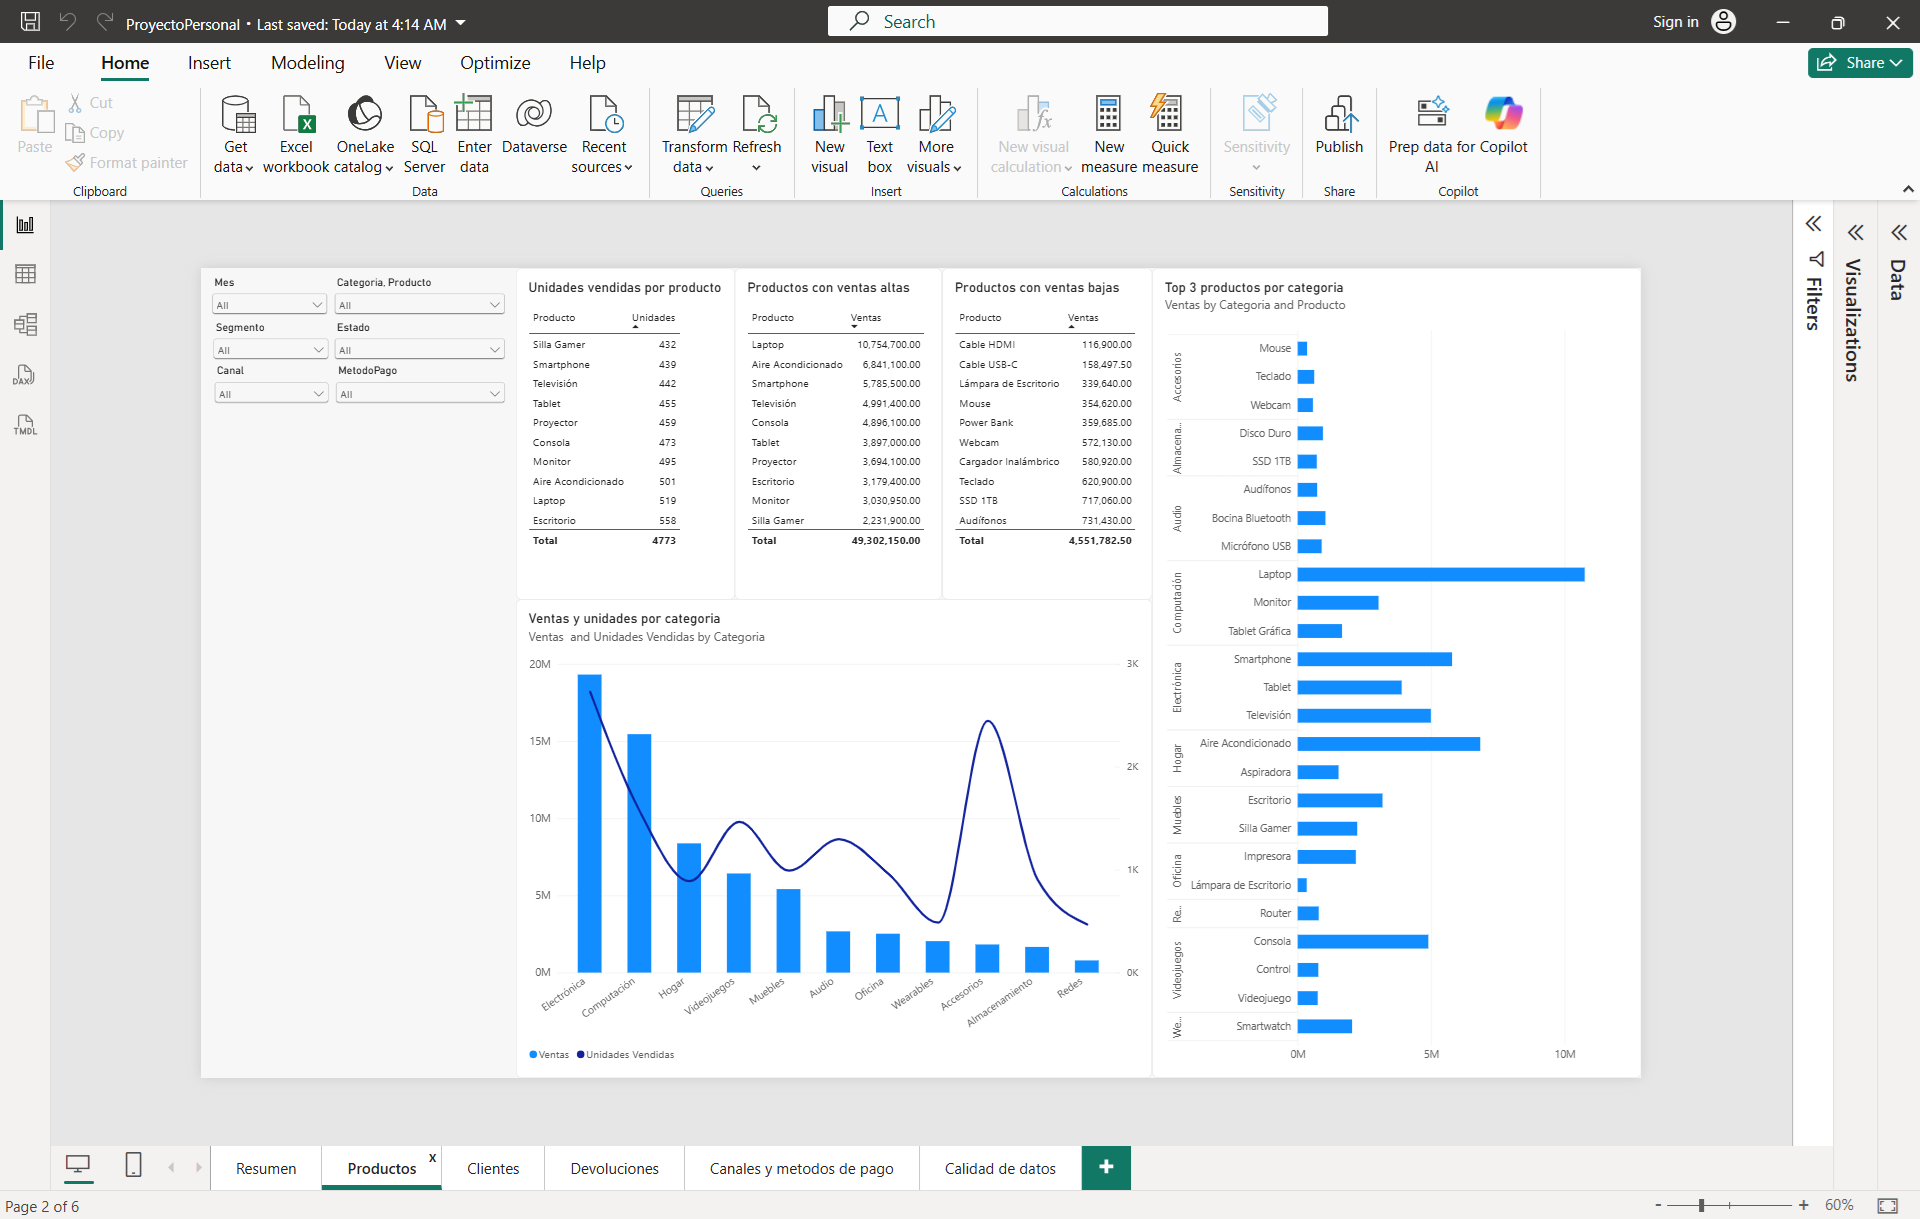

The dashboard page shown, as its layout file describes it:
{"tool":"powerbi","page":{"name":"Productos","canvas":[1920,1080],"ordinal":1},"visuals":[{"type":"tableEx","title":"Productos con ventas altas","fields":{"Values":["VentasLimpias.Producto","VentasLimpias.Ventas Dinamicas"]},"box":[712,0,276,442],"z":0},{"type":"tableEx","title":"Productos con ventas bajas","fields":{"Values":["VentasLimpias.Producto","VentasLimpias.Ventas Dinamicas"]},"box":[988,0,280,442],"z":2000},{"type":"tableEx","title":"Unidades vendidas por producto","fields":{"Values":["VentasLimpias.Producto","VentasLimpias.Unidades Vendidas dinamicas"]},"box":[420,0,292,442],"z":3000},{"type":"lineClusteredColumnComboChart","title":"Ventas y unidades por categoria","fields":{"Category":["VentasLimpias.Categoria"],"Y":["VentasLimpias.Ventas Dinamicas"],"Y2":["VentasLimpias.Unidades Vendidas dinamicas"]},"box":[420,442,848,638],"z":4000},{"type":"group","id":"g1","title":"Group 1","box":[10,10,400,280],"z":5000},{"type":"slicer","fields":{"Values":["Productos.Categoria","Productos.Producto"]},"box":[172.8,10,236.7,115],"z":5000,"group":"g1"},{"type":"clusteredBarChart","title":"Top 3 productos por categoria","fields":{"Category":["Productos.Categoria","Productos.Producto"],"Y":["VentasLimpias.Ventas Dinamicas"]},"box":[1268,0,652,1080],"z":6000},{"type":"slicer","fields":{"Values":["ClientesLimpios.Estado"]},"box":[172.8,70,236.7,95],"z":6000,"group":"g1"},{"type":"slicer","fields":{"Values":["ClientesLimpios.Segmento"]},"box":[11.1,70,163.3,220],"z":7000,"group":"g1"},{"type":"slicer","fields":{"Values":["VentasLimpias.Mes"]},"box":[10,10,163.3,81.1],"z":8000,"group":"g1"},{"type":"slicer","fields":{"Values":["VentasLimpias.Canal"]},"box":[12.8,128.3,161.7,150],"z":9000,"group":"g1"},{"type":"slicer","fields":{"Values":["VentasLimpias.MetodoPago"]},"box":[174.4,128.3,235,75],"z":10000,"group":"g1"}]}

Visuals, with their boxes on the page's 1920x1080 design canvas (x1, y1, x2, y2). These are canvas units, not pixel positions in the 1920x1219 screenshot, which may show the page scaled, cropped or inside an application window:
"Productos con ventas altas" tableEx: <bbox>712, 0, 988, 442</bbox>
"Productos con ventas bajas" tableEx: <bbox>988, 0, 1268, 442</bbox>
"Unidades vendidas por producto" tableEx: <bbox>420, 0, 712, 442</bbox>
"Ventas y unidades por categoria" lineClusteredColumnComboChart: <bbox>420, 442, 1268, 1080</bbox>
"Group 1" group: <bbox>10, 10, 410, 290</bbox>
slicer - Productos.Categoria x Productos.Producto: <bbox>173, 10, 410, 125</bbox>
"Top 3 productos por categoria" clusteredBarChart: <bbox>1268, 0, 1920, 1080</bbox>
slicer - ClientesLimpios.Estado: <bbox>173, 70, 410, 165</bbox>
slicer - ClientesLimpios.Segmento: <bbox>11, 70, 174, 290</bbox>
slicer - VentasLimpias.Mes: <bbox>10, 10, 173, 91</bbox>
slicer - VentasLimpias.Canal: <bbox>13, 128, 174, 278</bbox>
slicer - VentasLimpias.MetodoPago: <bbox>174, 128, 409, 203</bbox>
